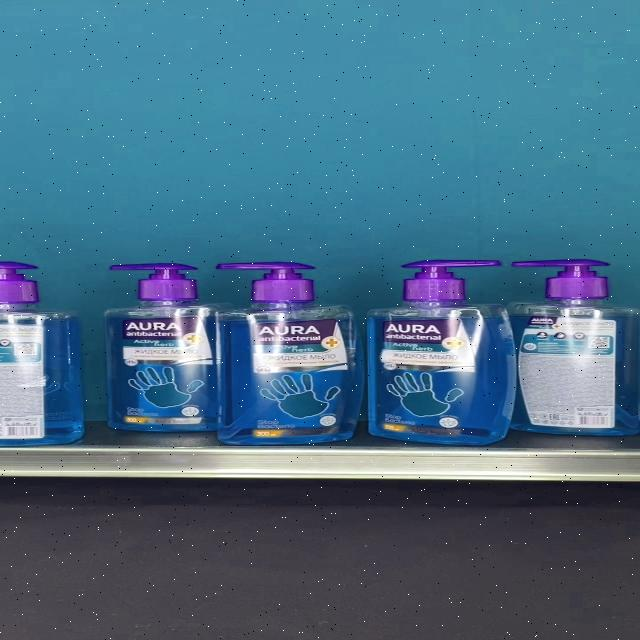Bottle: (366, 258, 516, 445), (217, 261, 365, 445), (505, 260, 640, 435), (101, 263, 235, 432)
Cap: (399, 258, 501, 301), (510, 260, 609, 300), (216, 262, 314, 300), (110, 262, 198, 298)
